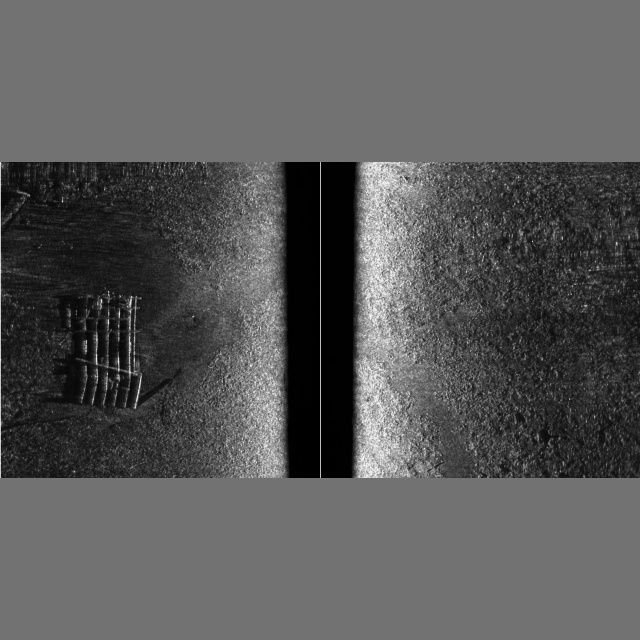Shipwreck: (0, 189, 143, 409)
